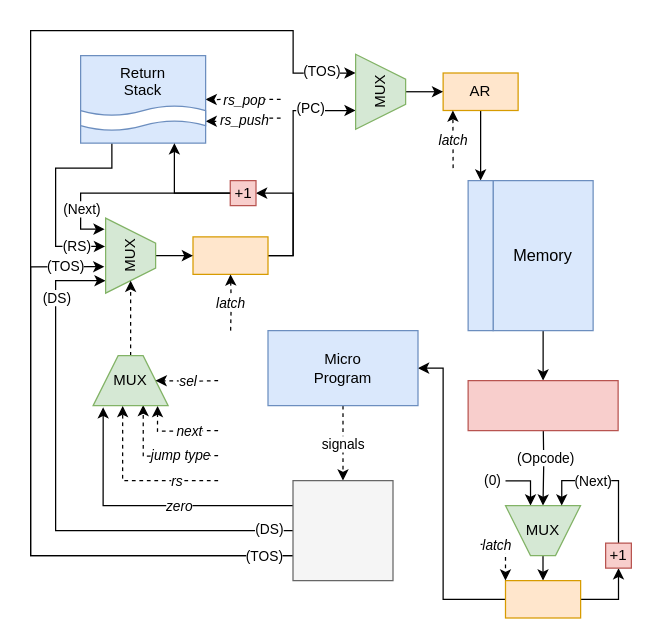
This 654x640 diagram has some shape labels left out. Here are the shapes that lost their labels. From the top down, the centre of each, then its label:
At pixel 230 255: "PC".
At pixel 480 255: "Address".
At pixel 542 405: "opcode -> mPC".
At pixel 342 530: "Data Path".
At pixel 542 598: "MPC".
